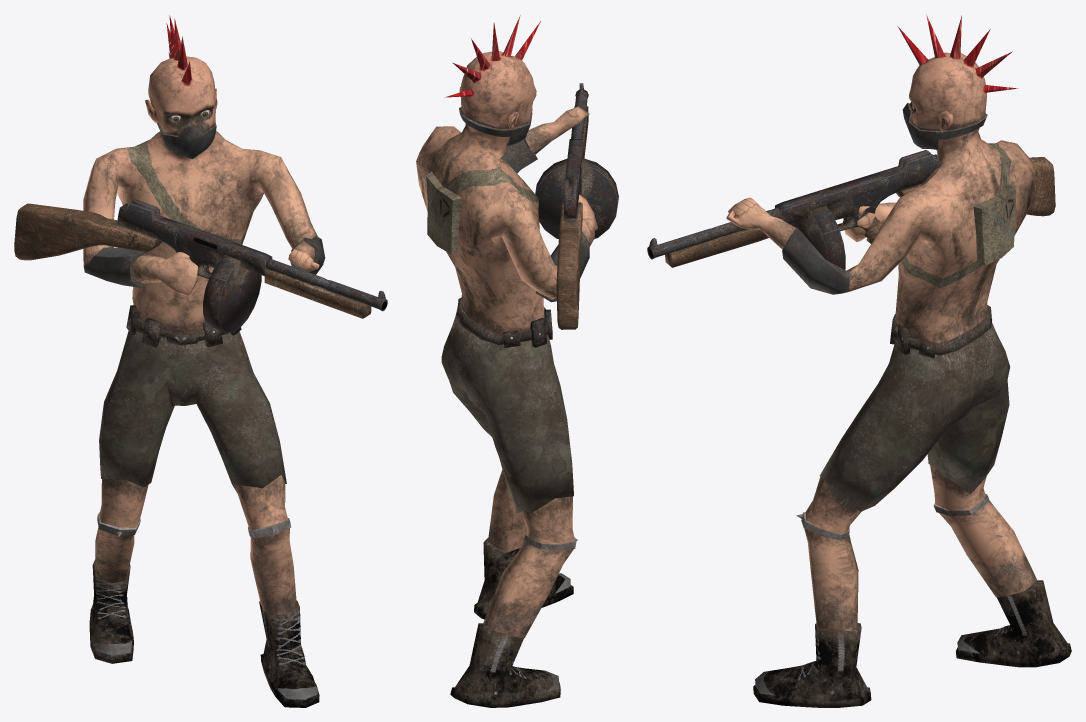
Rendered from Anim_disparar_ametralladora_npc2.0029.obj.
The picture shows the model from 3 angles, left to right: view 1: azimuth 30°, elevation 25°; view 2: azimuth 150°, elevation 25°; view 3: azimuth 270°, elevation 25°; orthographic projection. The views are drawn at different scales.
Visible parts, largest first — view 1: polySurface1; view 2: polySurface1; view 3: polySurface1.
Part boxes in pixels (box(x1,y1,x2,y2)): polySurface1: box(14, 15, 387, 707); polySurface1: box(416, 15, 618, 707); polySurface1: box(647, 14, 1071, 707).
Size of the model in its own units: 3.5 by 9.8 by 5.65.
